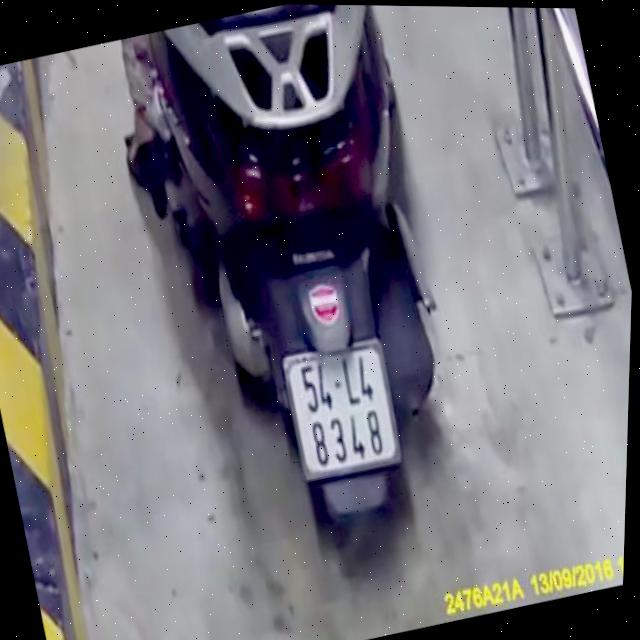motorcycle: (100, 2, 516, 586)
plate: (269, 323, 419, 496)
